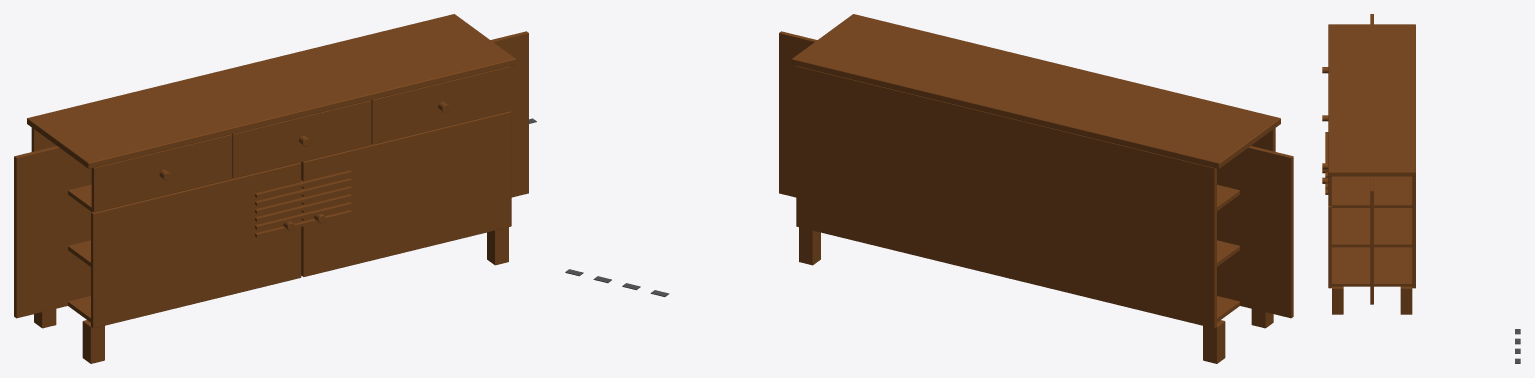
The model's file is Oakley_sideboard.obj.
The picture shows the model from 3 angles, left to right: view 1: azimuth 30°, elevation 25°; view 2: azimuth 150°, elevation 25°; view 3: azimuth 270°, elevation 25°; orthographic projection. The views are drawn at different scales.
Visible parts, largest first — view 1: top, door_1, door_2, carcass.side_1, drawer.front_1, drawer.front_2, drawer.front_3, carcass.side_2, leg_1, leg_2, drawer.runner_3, drawer.runner_4 (+4 smaller); view 2: carcass.back, top, carcass.side_1, carcass.side_2, leg_3, leg_4; view 3: top, carcass.bottom, shelf.fixed, carcass.divider, carcass.side_2, carcass.back, leg_4, leg_2, door_2.
Part boxes in pixels (bbox=[...]): top: bbox=[27, 14, 515, 168]; door_1: bbox=[91, 162, 301, 328]; door_2: bbox=[301, 111, 511, 276]; carcass.side_1: bbox=[14, 146, 91, 318]; drawer.front_1: bbox=[91, 134, 232, 212]; drawer.front_2: bbox=[232, 100, 371, 178]; drawer.front_3: bbox=[371, 66, 510, 144]; carcass.side_2: bbox=[490, 31, 528, 197]; leg_1: bbox=[82, 320, 104, 363]; leg_2: bbox=[487, 227, 508, 265]; drawer.runner_3: bbox=[255, 194, 351, 221]; drawer.runner_4: bbox=[255, 186, 351, 213]; carcass.back: bbox=[796, 66, 1216, 328]; top: bbox=[791, 14, 1280, 168]; carcass.side_1: bbox=[1217, 146, 1293, 318]; carcass.side_2: bbox=[779, 31, 817, 197]; leg_3: bbox=[1203, 320, 1225, 363]; leg_4: bbox=[799, 227, 820, 265]; top: bbox=[1328, 24, 1415, 176]; carcass.bottom: bbox=[1332, 247, 1412, 286]; shelf.fixed: bbox=[1332, 208, 1412, 247]; carcass.divider: bbox=[1332, 176, 1412, 207]; carcass.side_2: bbox=[1370, 176, 1373, 304]; carcass.back: bbox=[1412, 176, 1415, 288]; leg_4: bbox=[1400, 286, 1412, 314]; leg_2: bbox=[1332, 286, 1343, 314]; door_2: bbox=[1328, 206, 1331, 288].
Size of the model in its own units: 2.62 by 0.82 by 1.02.
